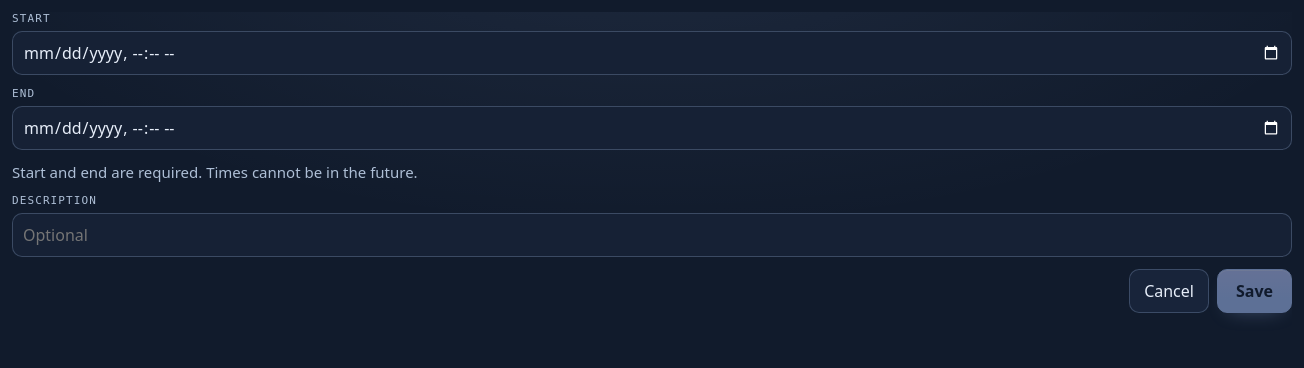
it: ManualEntryDialog › editing › blocks a future end and shows the message
The width and height of the screenshot is (1304, 368).
Type "2026-09-09T09:00" into the field with test id "start-input" at (652, 53), box left=12, top=31, right=1292, bottom=75
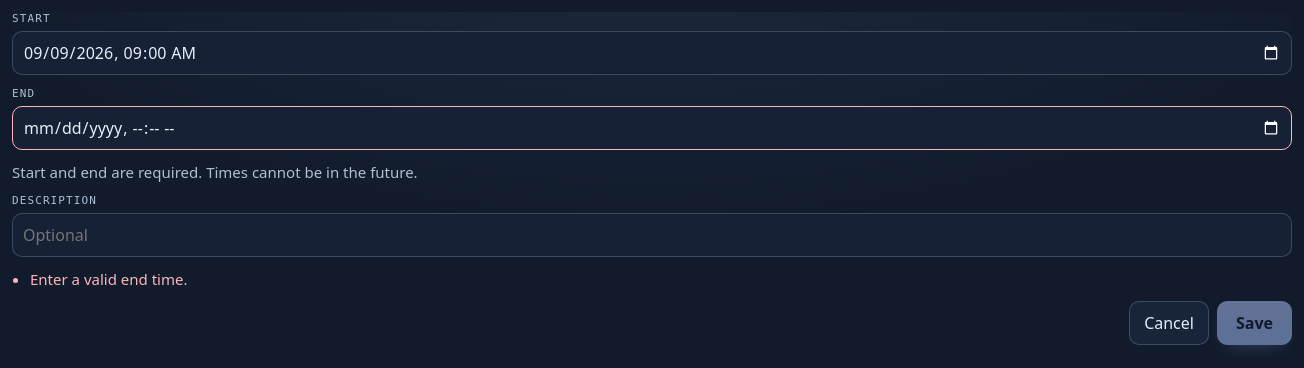
Type "2026-09-09T18:00" into the field with test id "end-input" at (652, 128), box left=12, top=106, right=1292, bottom=150
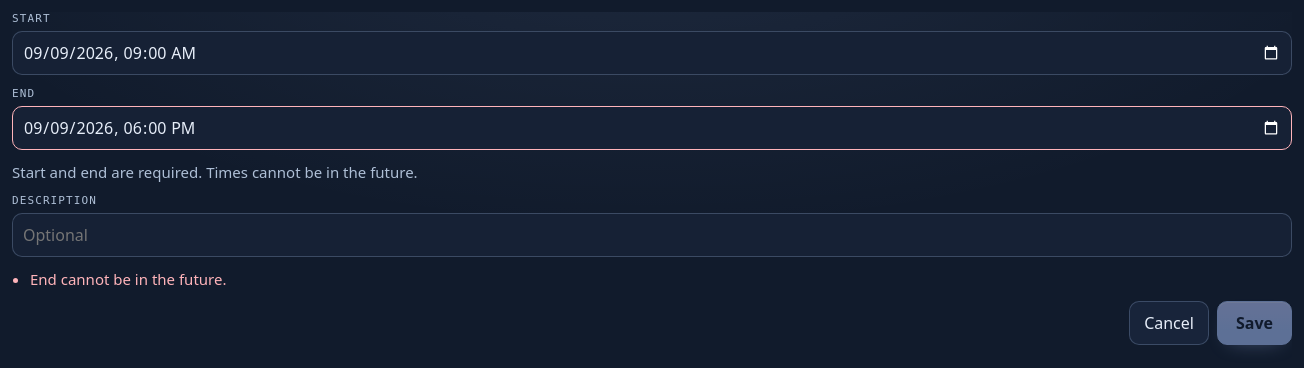
Check: the button with test id "save-entry" is disabled, box left=1217, top=301, right=1292, bottom=345
Check: the message with test id "form-errors" reads "End cannot be in the future.", box left=30, top=269, right=226, bottom=289
